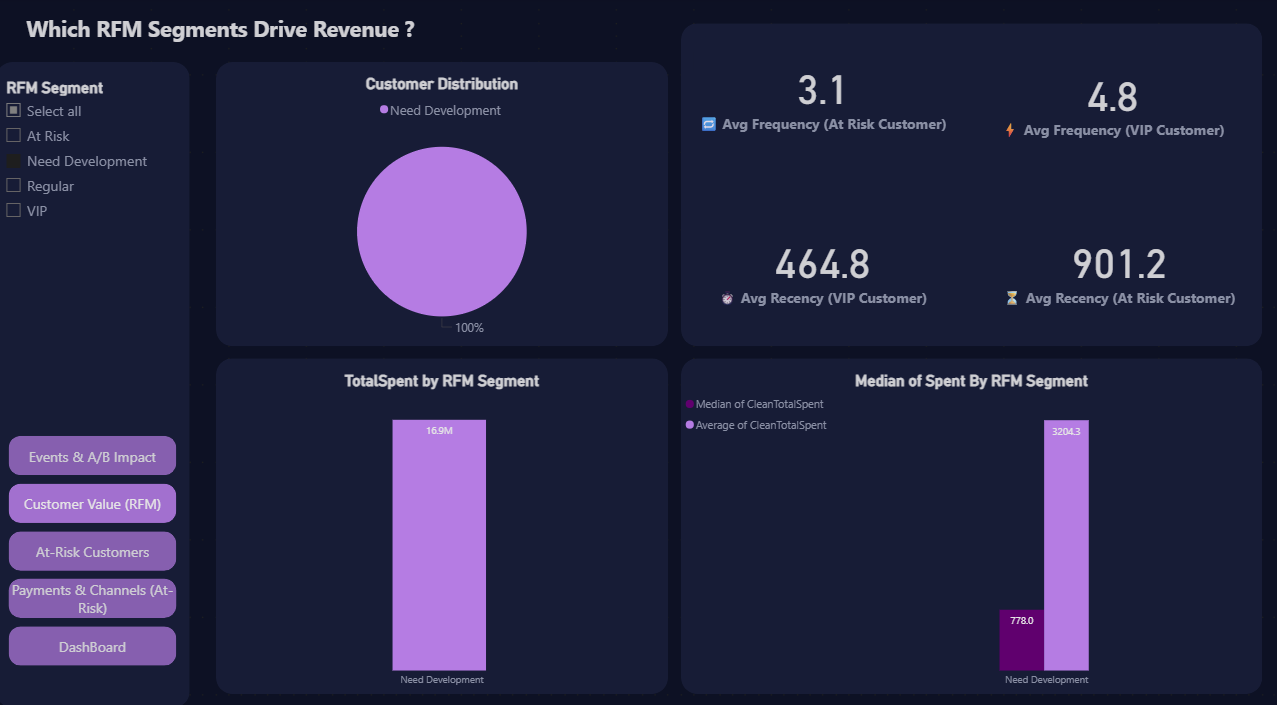

The dashboard page shown, as its layout file describes it:
{"tool":"powerbi","page":{"name":"Customer Value (RFM)","canvas":[1600,900],"ordinal":1},"visuals":[{"type":"shape","box":[272,80,560,352],"z":0},{"type":"shape","box":[0,80,240,800],"z":1000},{"type":"shape","box":[848,32,720,400],"z":2000},{"type":"shape","box":[848,448,720,416],"z":3000},{"type":"shape","box":[272,448,560,416],"z":4000},{"type":"shape","box":[864,48,576,336],"z":5000},{"type":"pieChart","title":"Customer Distribution","fields":{"Category":["arpand_ecommerce_dataset.RFM Category"],"Y":["CountNonNull(arpand_ecommerce_dataset.RFM Category)"]},"box":[272,96,560,336],"z":6000},{"type":"clusteredColumnChart","title":"Median of Spent By RFM Segment","fields":{"Category":["arpand_ecommerce_dataset.RFM Category"],"Y":["Median(arpand_ecommerce_dataset.CleanTotalSpent)","Avg(arpand_ecommerce_dataset.CleanTotalSpent)"]},"box":[848,464,720,400],"z":7000},{"type":"lineClusteredColumnComboChart","title":"TotalSpent by RFM Segment","fields":{"Category":["arpand_ecommerce_dataset.RFM Category"],"Y":["Sum(arpand_ecommerce_dataset.CleanTotalSpent)"]},"box":[272,464,560,400],"z":8000},{"type":"slicer","fields":{"Values":["arpand_ecommerce_dataset.RFM Segment"]},"box":[0,96,240,240],"z":9000},{"type":"card","fields":{"Values":["Measure Table.Avg Frequency (At Risk Customer)"]},"box":[848,32,352,176],"z":10000},{"type":"card","fields":{"Values":["Measure Table.Avg Recency (At Risk Customer)"]},"box":[1216,240,352,192],"z":11000},{"type":"card","fields":{"Values":["Measure Table.Avg Recency (VIP Customer)"]},"box":[864,240,320,192],"z":12000},{"type":"card","fields":{"Values":["Measure Table.Avg Frequency (VIP Customer)"]},"box":[1216,32,336,192],"z":13000},{"type":"pageNavigator","box":[16,544,208,288],"z":14000},{"type":"textbox","box":[32,16,560,64],"z":15000}]}

Visuals, with their boxes in screenshot pixels (x1, y1, x2, y2), scaled from the page's 1600x900 canvas onto the 1277x705 screenshot:
shape: select_region(217, 63, 664, 338)
shape: select_region(0, 63, 192, 689)
shape: select_region(677, 25, 1251, 338)
shape: select_region(677, 351, 1251, 677)
shape: select_region(217, 351, 664, 677)
shape: select_region(690, 38, 1149, 301)
"Customer Distribution" pieChart: select_region(217, 75, 664, 338)
"Median of Spent By RFM Segment" clusteredColumnChart: select_region(677, 363, 1251, 677)
"TotalSpent by RFM Segment" lineClusteredColumnComboChart: select_region(217, 363, 664, 677)
slicer - arpand_ecommerce_dataset.RFM Segment: select_region(0, 75, 192, 263)
card - Measure Table.Avg Frequency (At Risk Customer): select_region(677, 25, 958, 163)
card - Measure Table.Avg Recency (At Risk Customer): select_region(971, 188, 1251, 338)
card - Measure Table.Avg Recency (VIP Customer): select_region(690, 188, 945, 338)
card - Measure Table.Avg Frequency (VIP Customer): select_region(971, 25, 1239, 175)
pageNavigator: select_region(13, 426, 179, 652)
textbox: select_region(26, 13, 472, 63)
